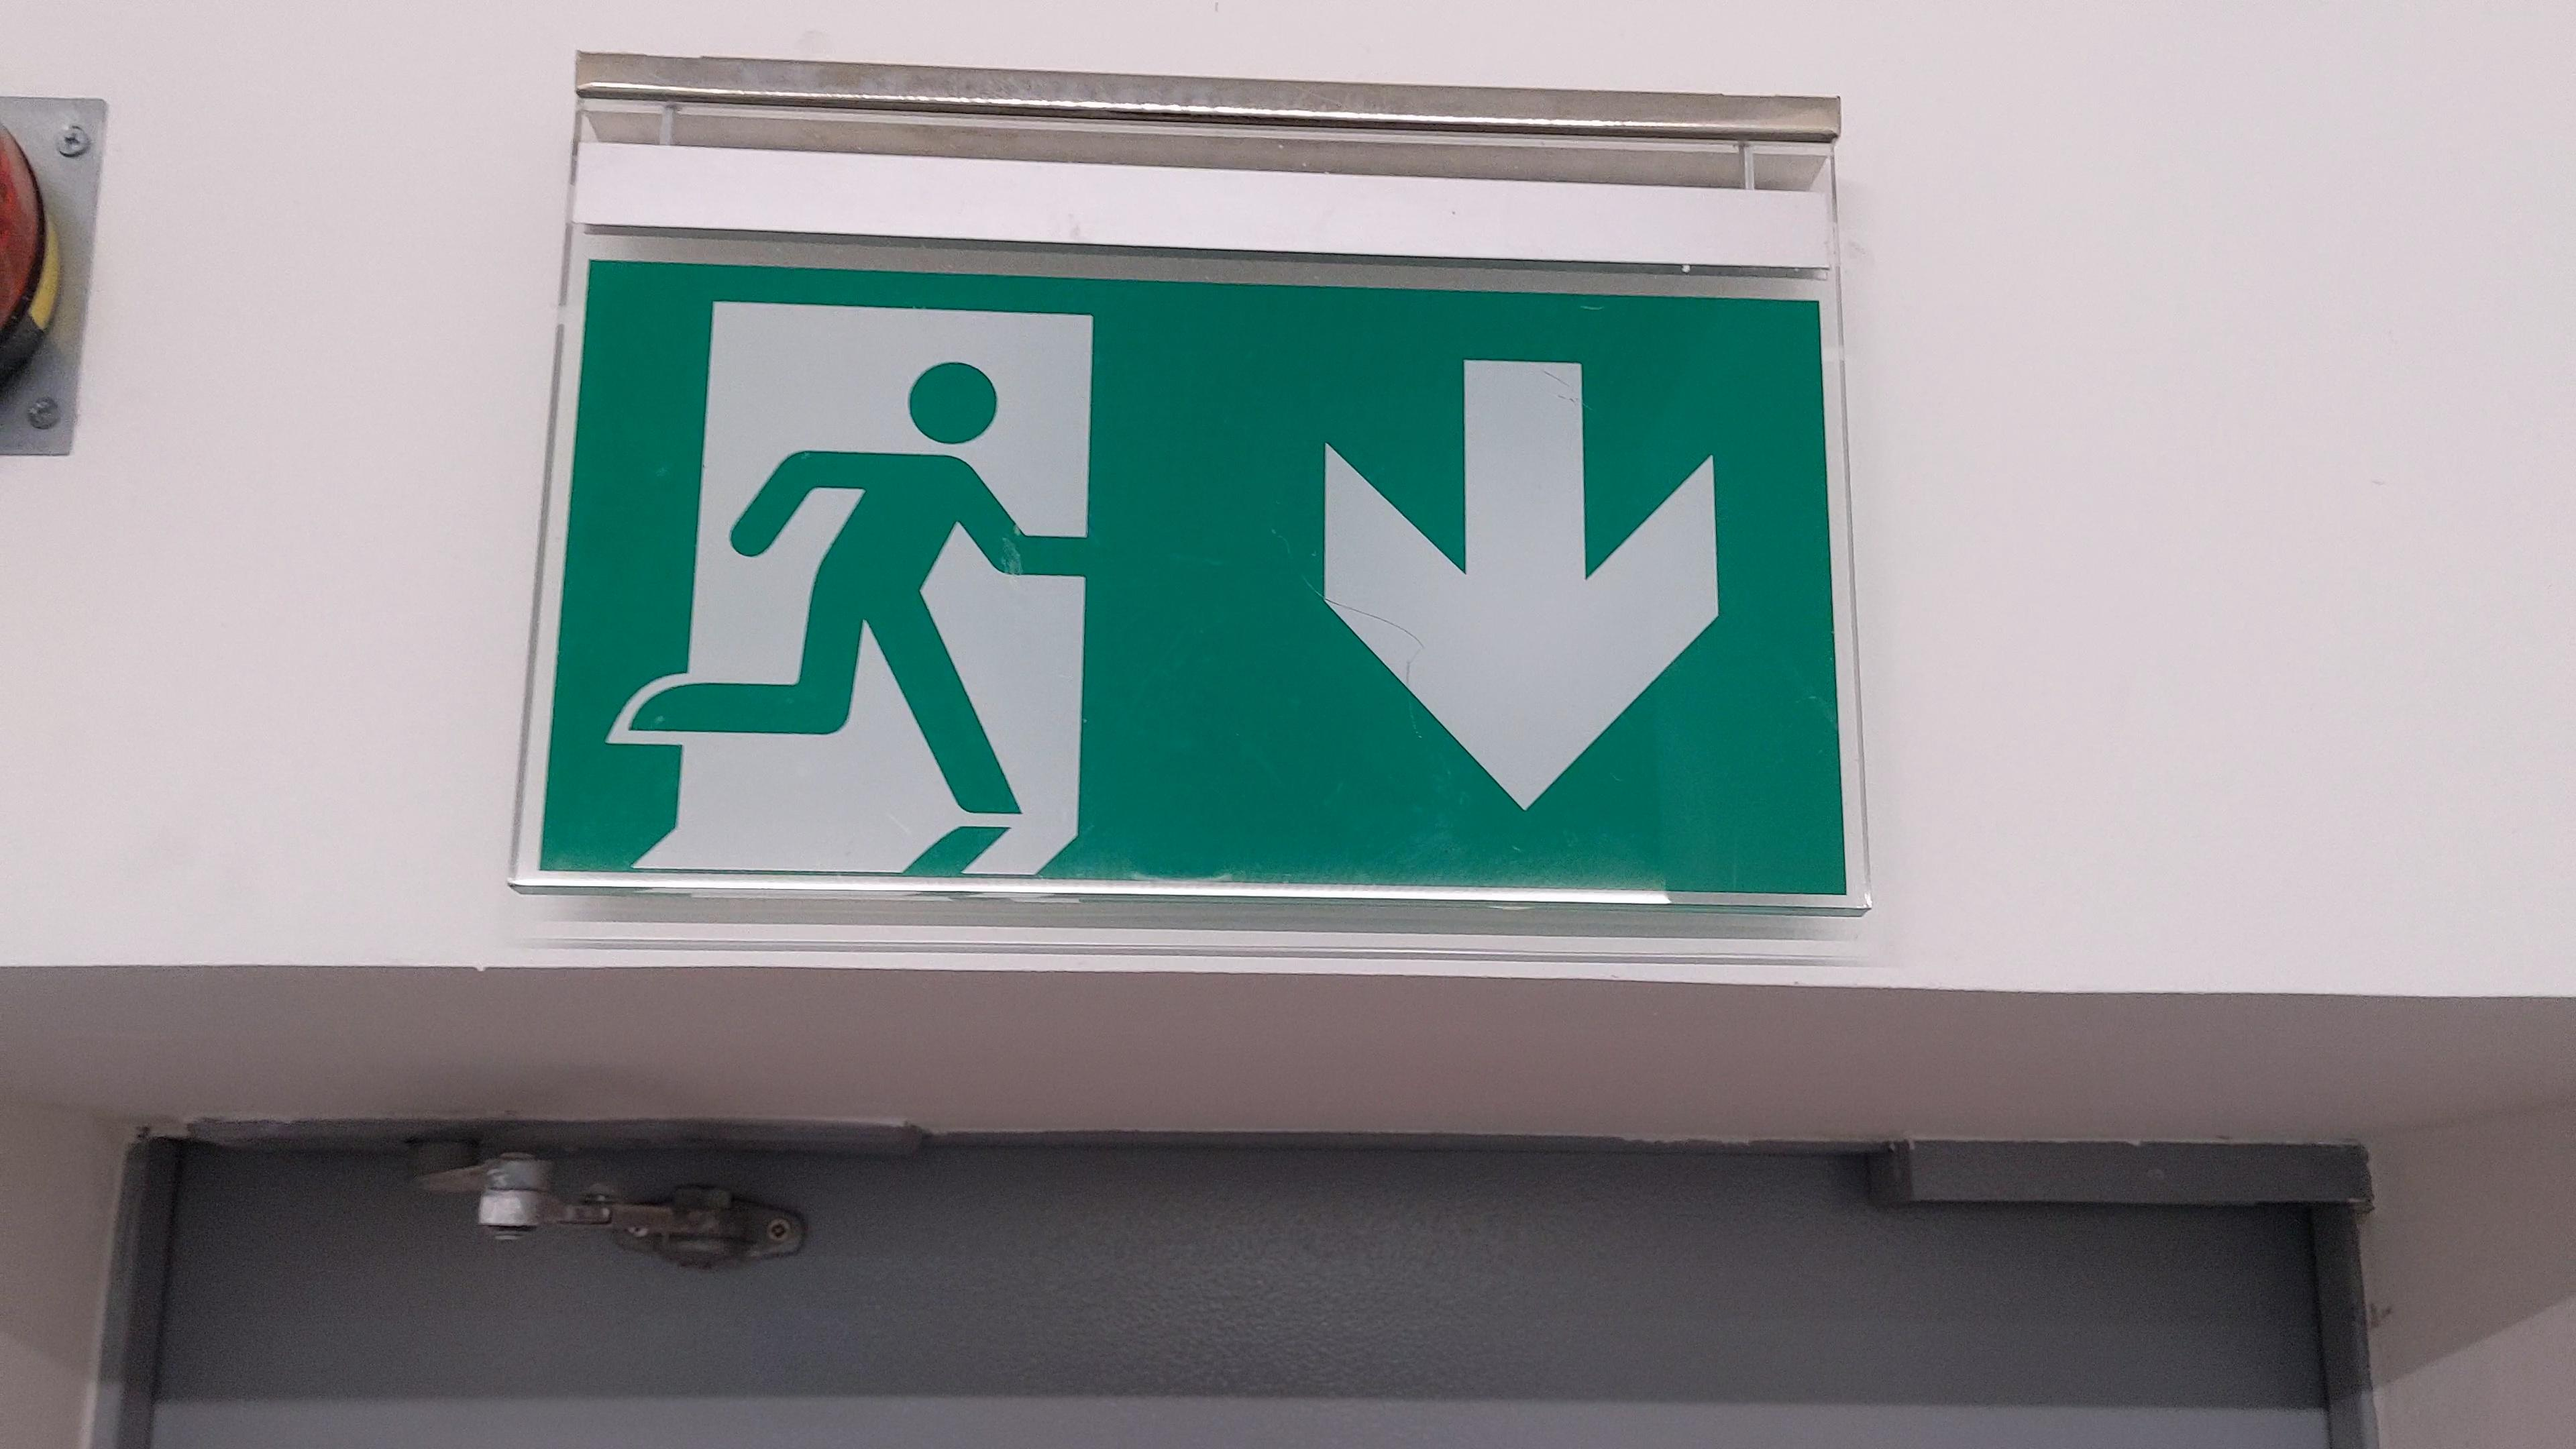emergency down arrow: (1300, 336, 1732, 817)
emergency exit: (598, 290, 1106, 876)
